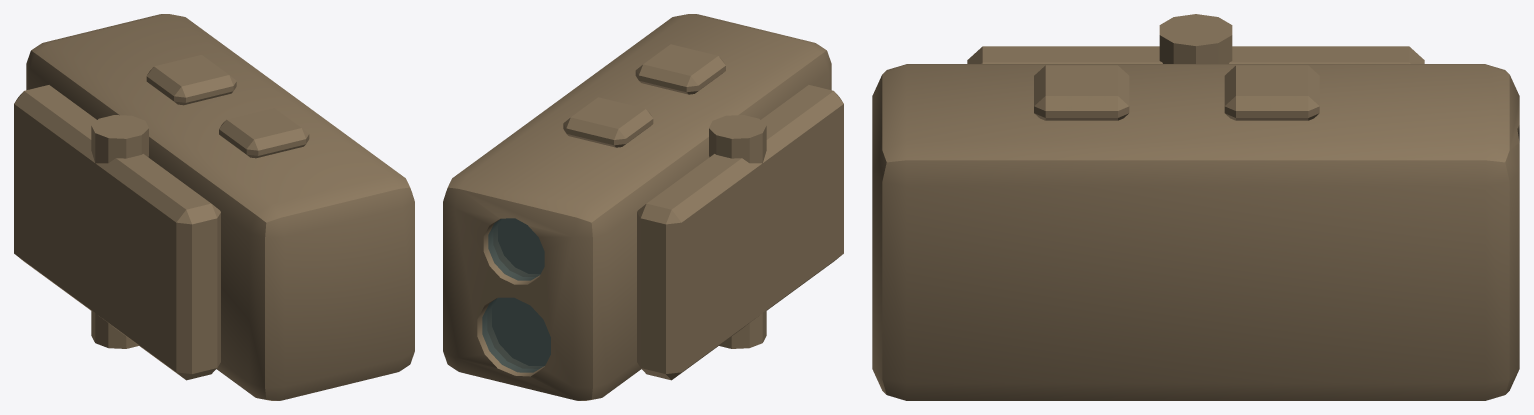
File: ATT_Laser.glb
The picture shows the model from 3 angles, left to right: view 1: azimuth 30°, elevation 25°; view 2: azimuth 150°, elevation 25°; view 3: azimuth 270°, elevation 25°; orthographic projection. The views are drawn at different scales.
Visible parts, largest first — view 1: Body; view 2: Body, Glass; view 3: Body.
Part boxes in pixels (x1,y1,x2,y2): Body: (14,14,414,400); Body: (443,14,843,400); Glass: (482,218,550,372); Body: (872,14,1519,400).
Bounding box in the file's own units: 0.165 × 0.168 × 0.34.
